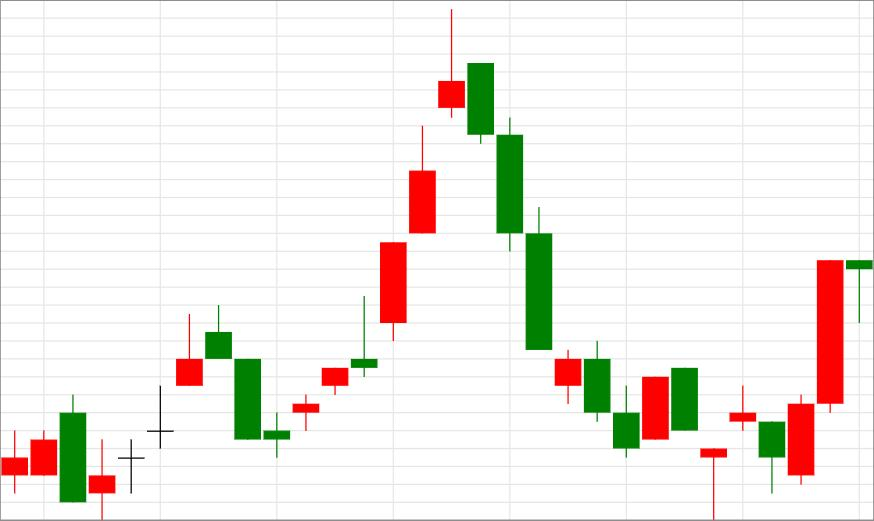three_black_crows_fall: (264, 8, 553, 457)
